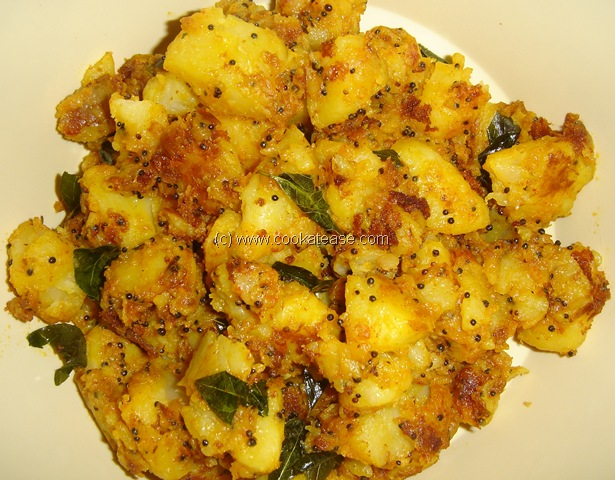boiled potatoes: (55, 12, 550, 467)
